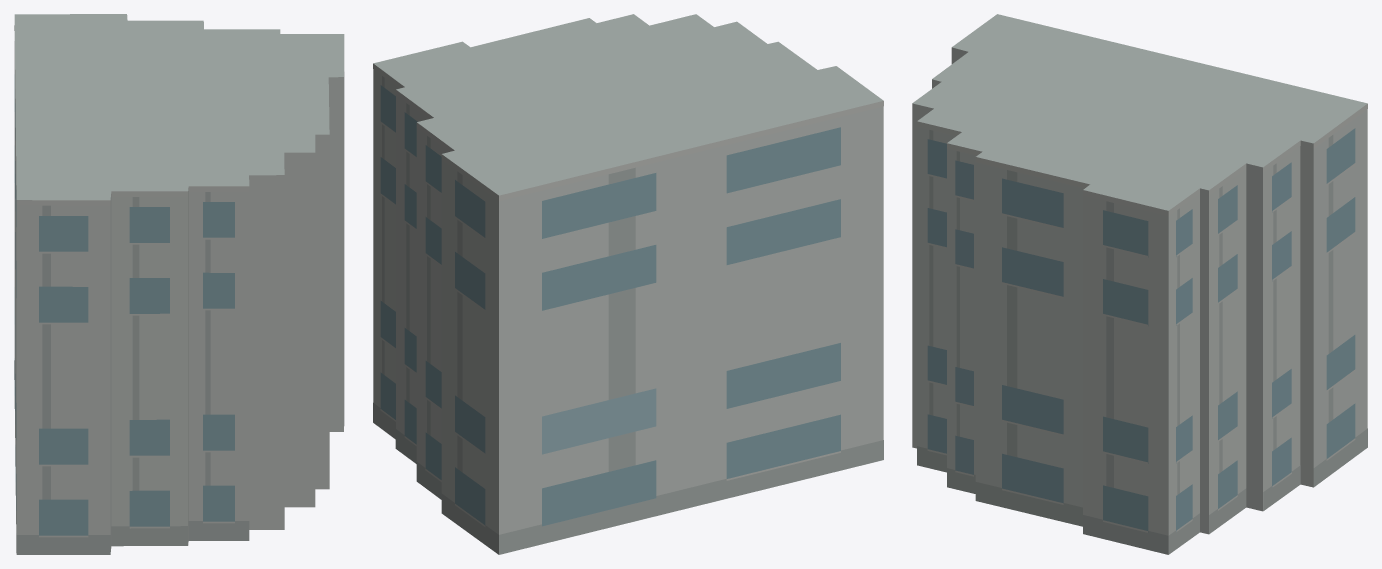
File: survey-upis-32939221.glb
3 views of the same model, side by side, from view 1: azimuth 30°, elevation 25°; view 2: azimuth 150°, elevation 25°; view 3: azimuth 270°, elevation 25° (orthographic). The views are drawn at different scales.
Parts seen in each view (by area): view 1: survey-upis-32939221.tmp; view 2: survey-upis-32939221.tmp; view 3: survey-upis-32939221.tmp.
Boxes of the visible parts, left/top/right/bottom form: survey-upis-32939221.tmp: left=14, top=14, right=344, bottom=554; survey-upis-32939221.tmp: left=373, top=14, right=883, bottom=554; survey-upis-32939221.tmp: left=912, top=14, right=1367, bottom=554.
Size of the model in its own units: 18.72 by 15.25 by 18.32.
